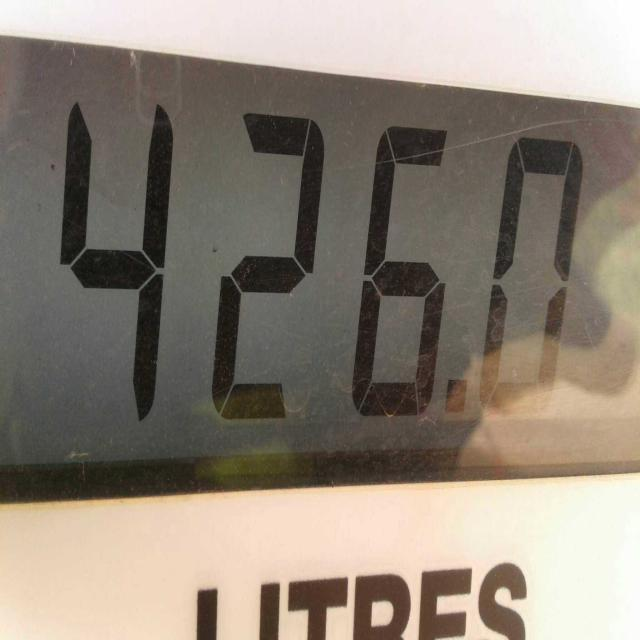.: (438, 348, 478, 445)
0: (478, 113, 589, 444)
2: (198, 78, 330, 452)
4: (51, 78, 190, 439)
6: (345, 106, 453, 446)
